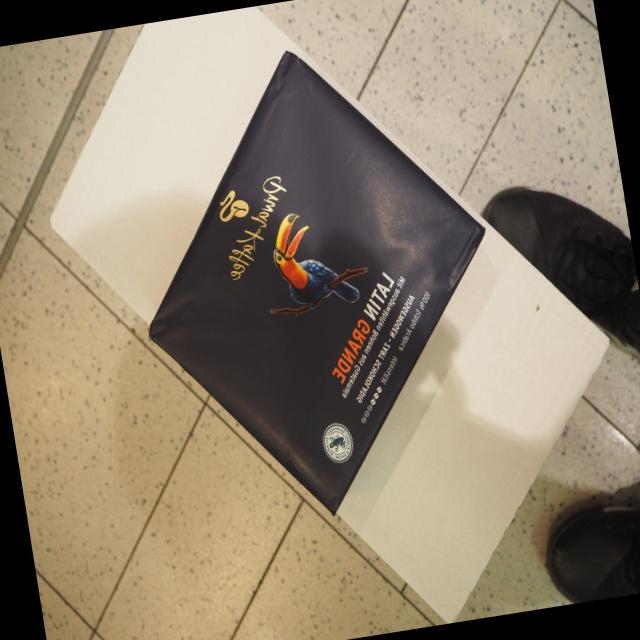LG Gemahlen: (143, 40, 489, 523)
